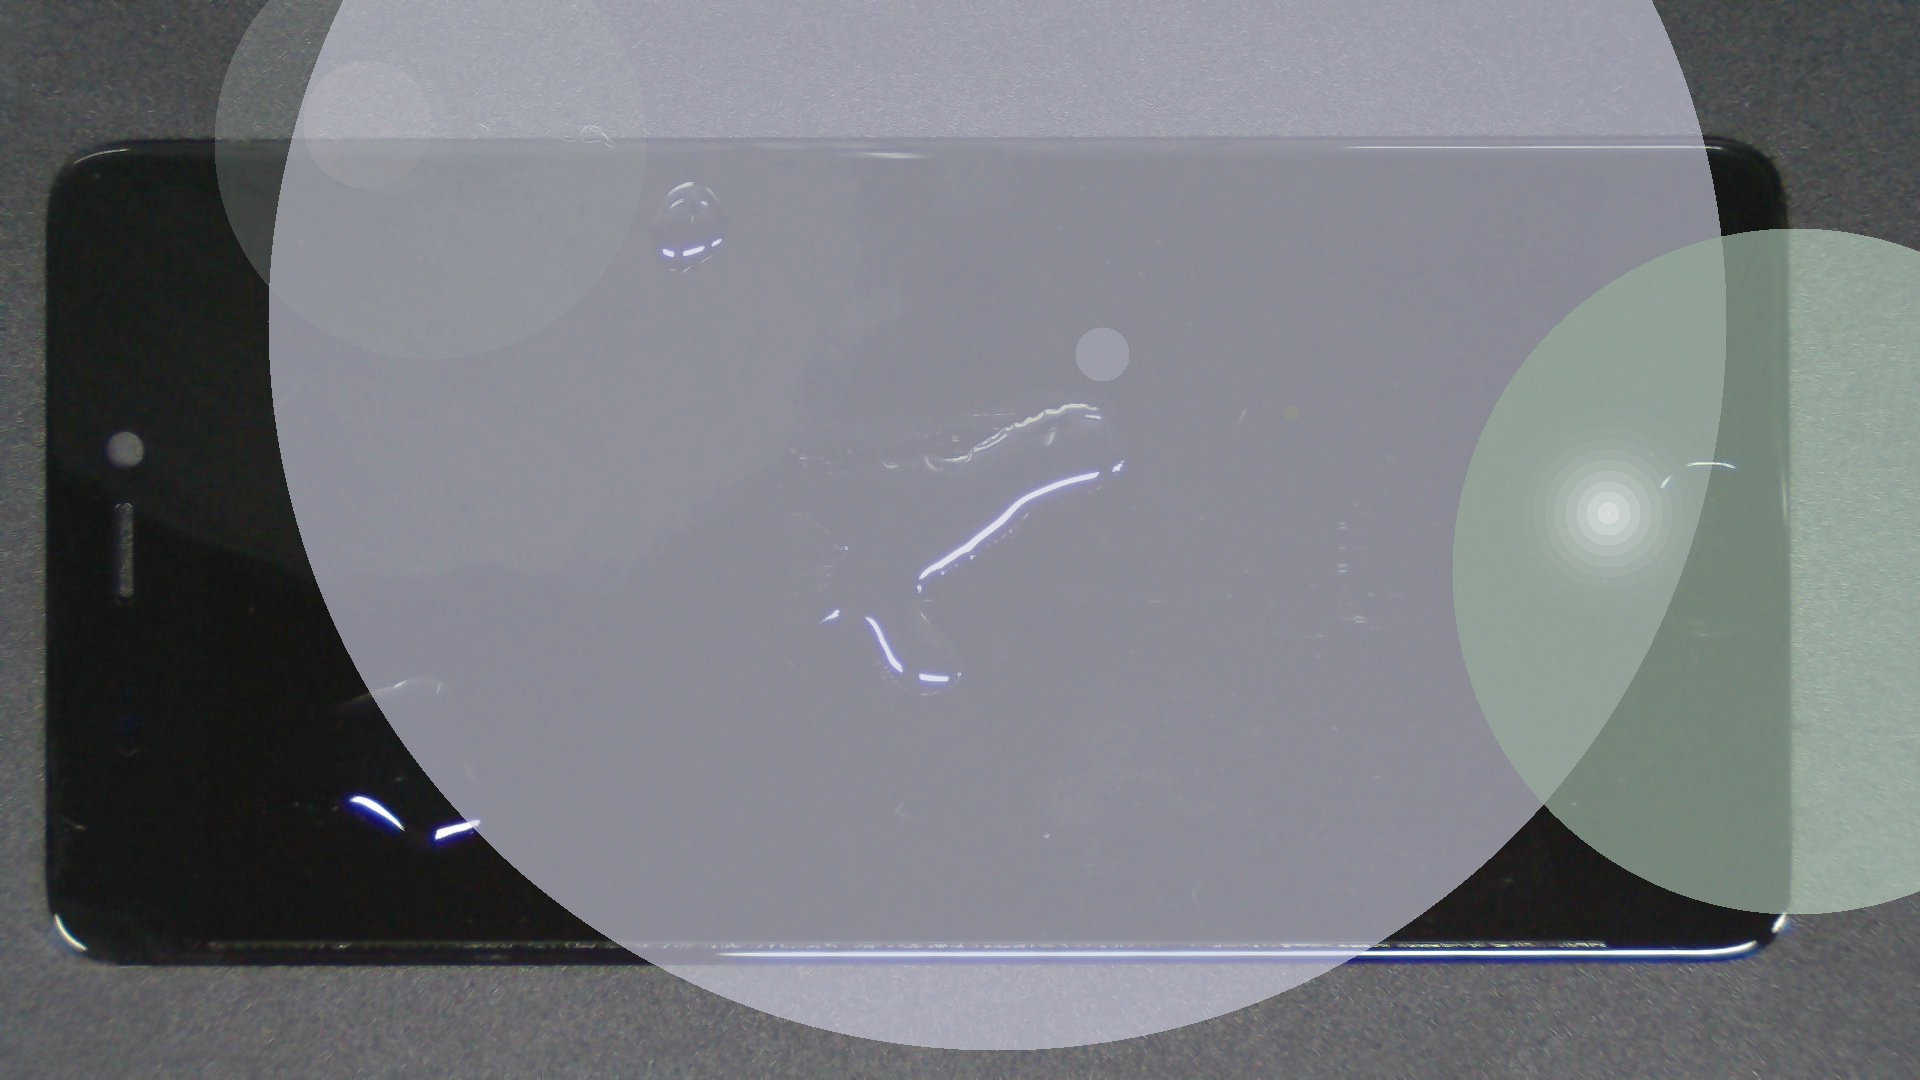oil: (541, 200, 1619, 603), (212, 338, 634, 1015), (345, 90, 1034, 272)
